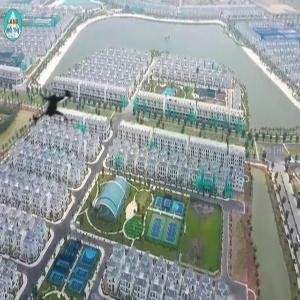drone: (7, 63, 103, 159)
